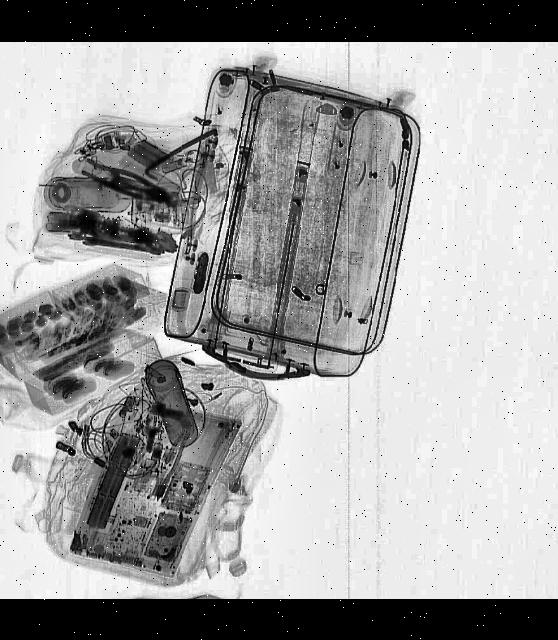Pliers: (76, 152, 176, 210)
